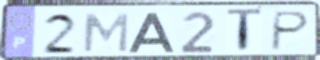2: (179, 9, 218, 55), (40, 12, 80, 54)
A: (126, 11, 177, 54)
M: (81, 12, 131, 54)
P: (268, 10, 312, 53)
T: (225, 7, 265, 55)
